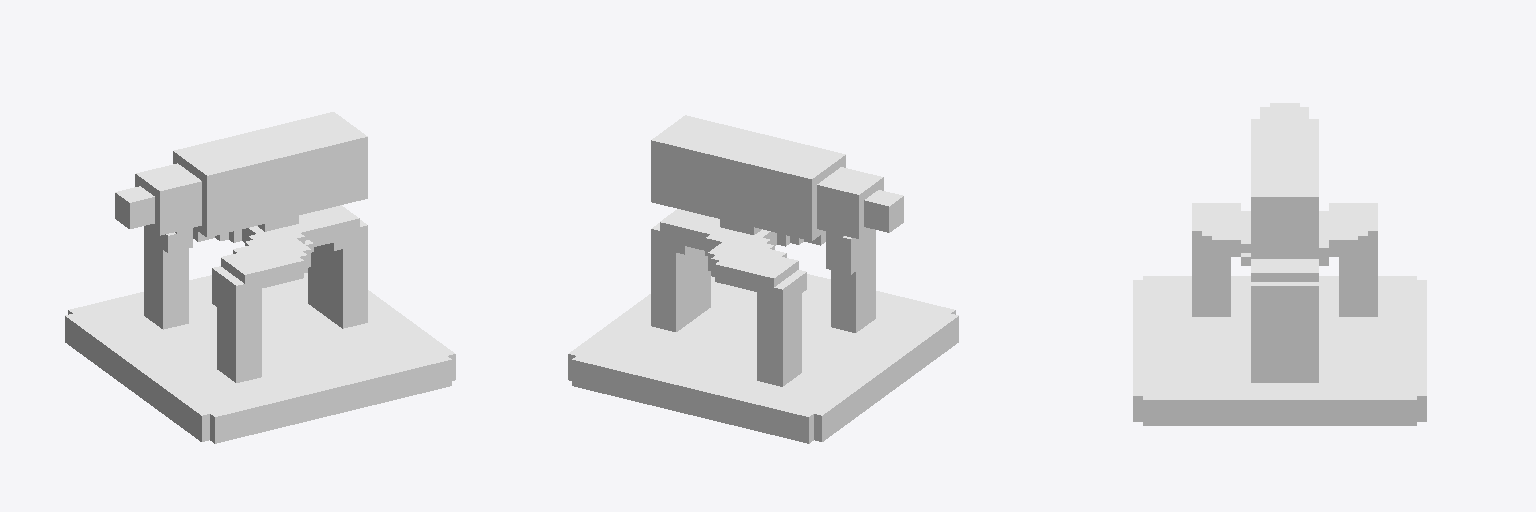
Rendered from sentry.obj.
3 renders of one model, left to right at view 1: azimuth 30°, elevation 25°; view 2: azimuth 150°, elevation 25°; view 3: azimuth 270°, elevation 25°, orthographic.
Parts seen in each view (by area): view 1: object 1; view 2: object 1; view 3: object 1.
Part boxes in pixels (bbox=[...]): object 1: bbox=[65, 112, 455, 443]; object 1: bbox=[568, 115, 958, 443]; object 1: bbox=[1133, 103, 1426, 425].
Size of the model in its own units: 3.1 by 2.4 by 3.